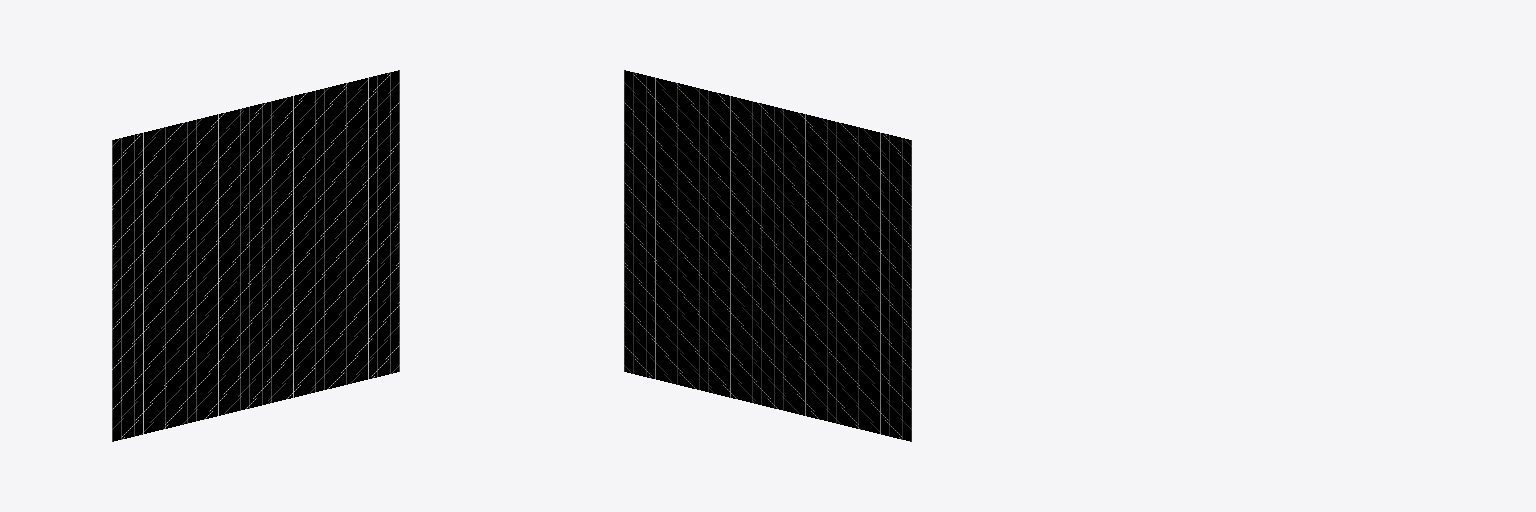
3 renders of one model, left to right at view 1: azimuth 30°, elevation 25°; view 2: azimuth 150°, elevation 25°; view 3: azimuth 270°, elevation 25°, orthographic.
Visible parts, largest first — view 1: Plane; view 2: Plane; view 3: none.
Boxes of the visible parts, box(x1,y1,x2,y2) form: Plane: box(112, 70, 399, 441); Plane: box(624, 70, 911, 441).
Size of the model in its own units: 200 by 200 by 0.
1 materials, 1 textured.